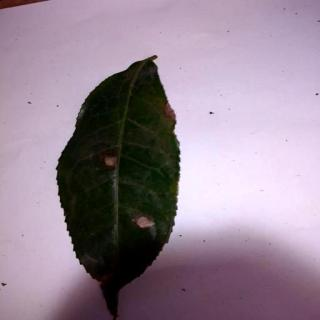Anthracnose: (54, 58, 180, 320)
